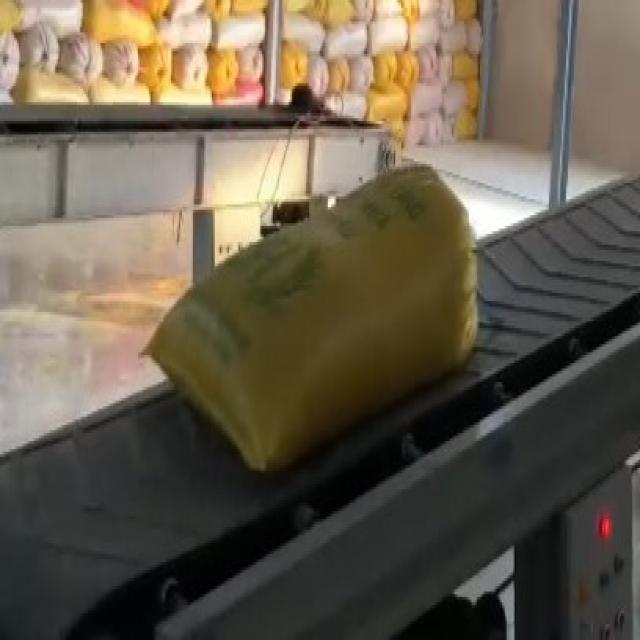gunny_bag: (147, 167, 478, 469)
